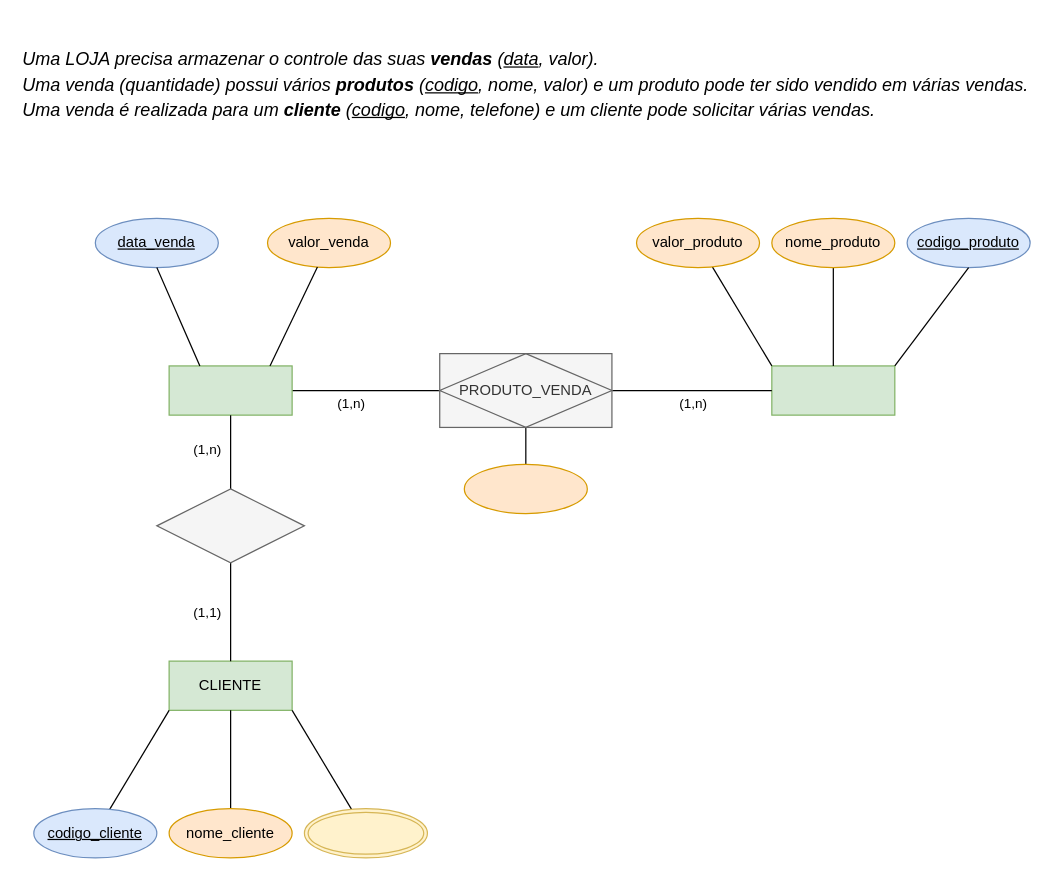
The diagram is 1054 pixels wide and 879 high, and some of its shapes have lost their labels. The shapes that lost their labels are listed below. From the top down, each one's box as (x1, y1, x2, y2) in pixels, then its label:
(168, 365, 292, 415): VENDA
(771, 365, 895, 415): PRODUTO
(463, 463, 587, 514): quantidade
(156, 488, 304, 563): Faz
(303, 807, 427, 858): telefone_cliente
